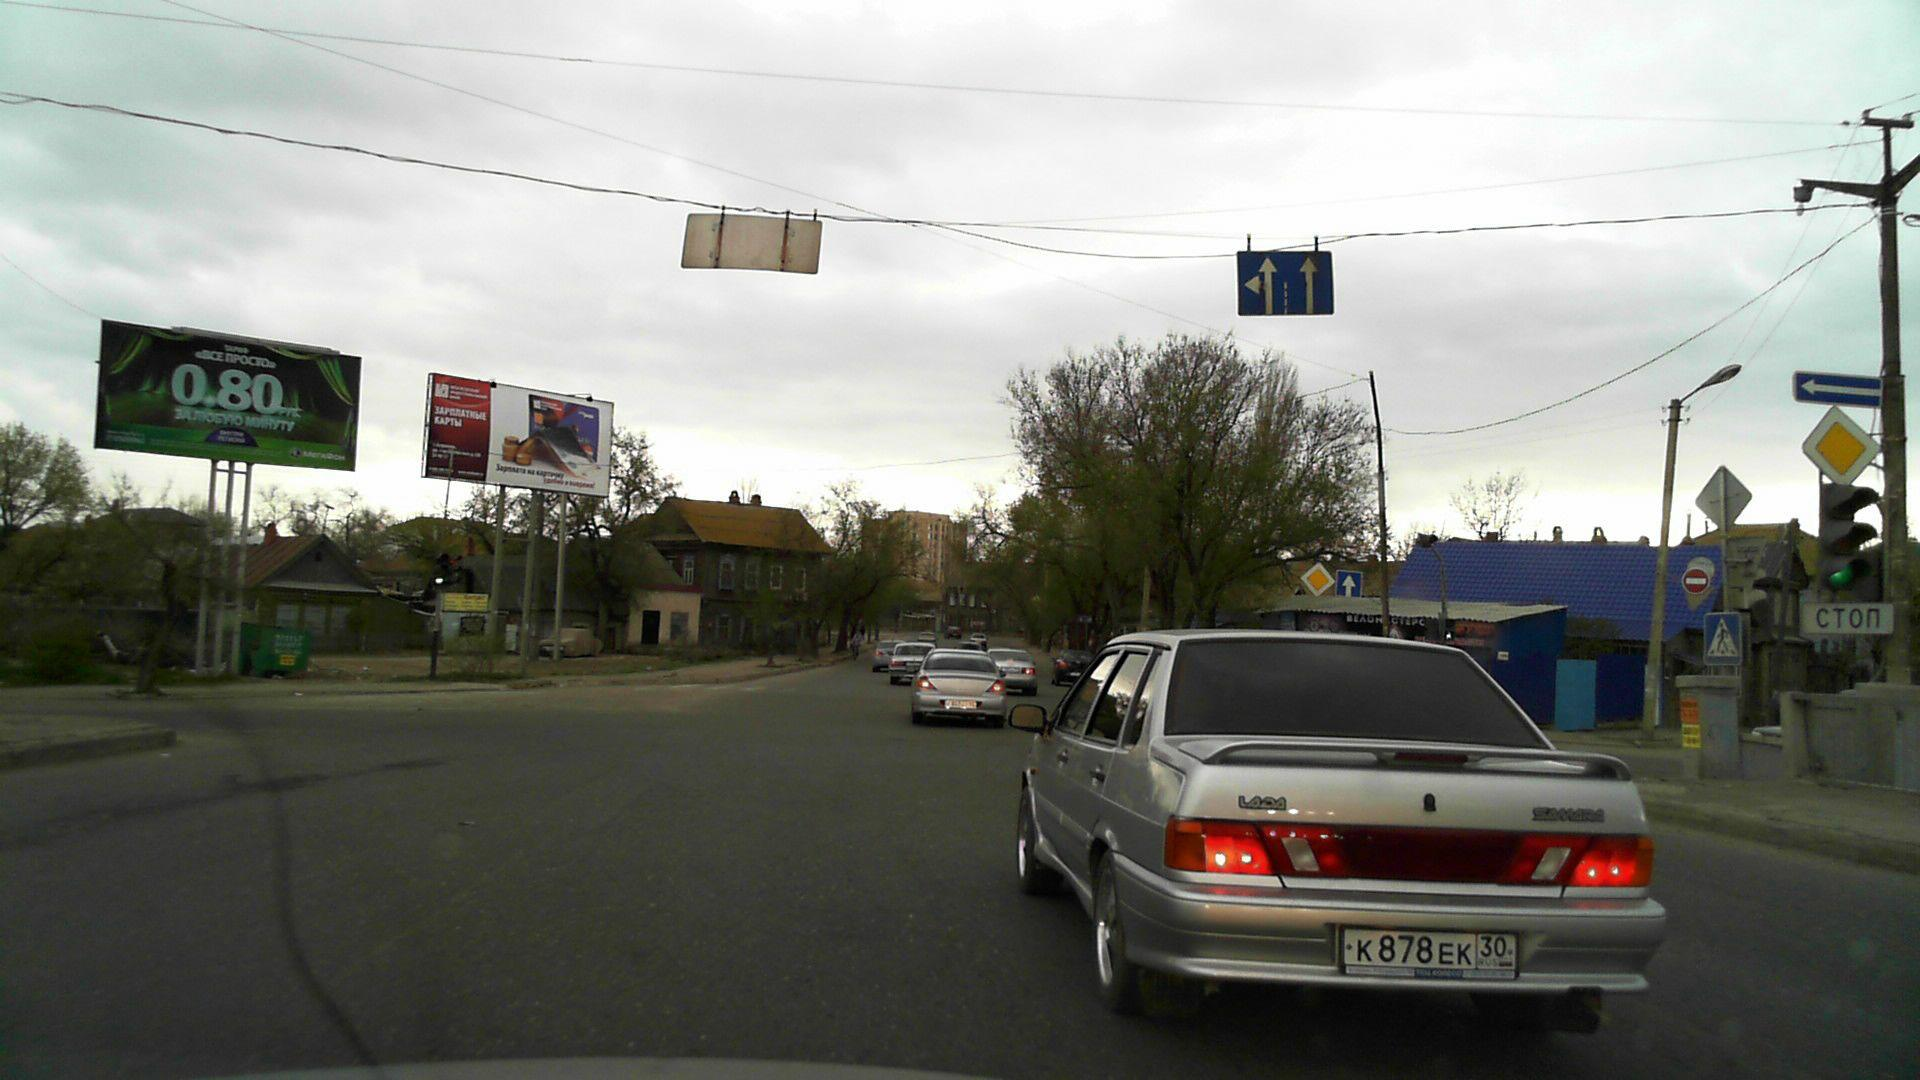2_1: (1800, 406, 1876, 487), (1299, 562, 1333, 593)
3_1: (1683, 568, 1710, 595)
5_15_1: (1238, 249, 1335, 315)
5_19_1: (1705, 611, 1743, 663)
5_5: (1336, 570, 1362, 599)
5_7_2: (1791, 369, 1884, 402)
8_2_3: (1803, 600, 1891, 637)
